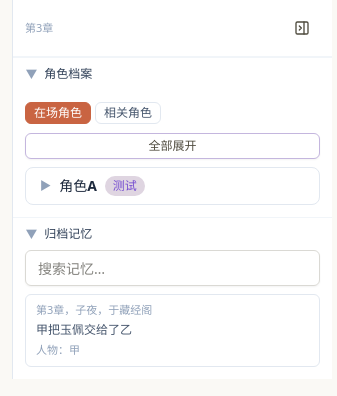
Test case: SandboxCharacterPanel 归档记忆分组 › 无匹配结果时显示提示
Expected: the text "甲把玉佩交给了乙" is shown, [36,321,132,338]
Type "不存在的关键词" into the field with placeholder "搜索记忆…" at (172, 268), box [25,250,320,286]
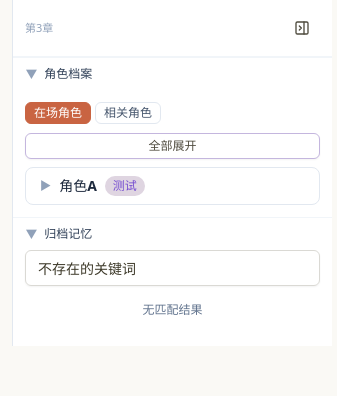
Expected: the text "无匹配结果" is shown, [142,301,202,318]
